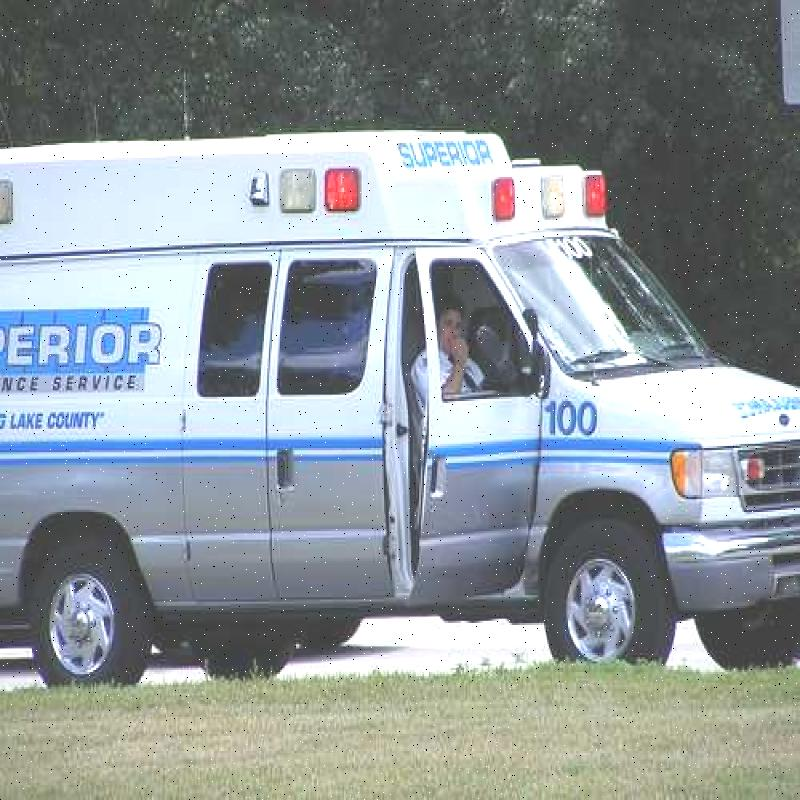AmbulanceSiren: (478, 167, 628, 242)
